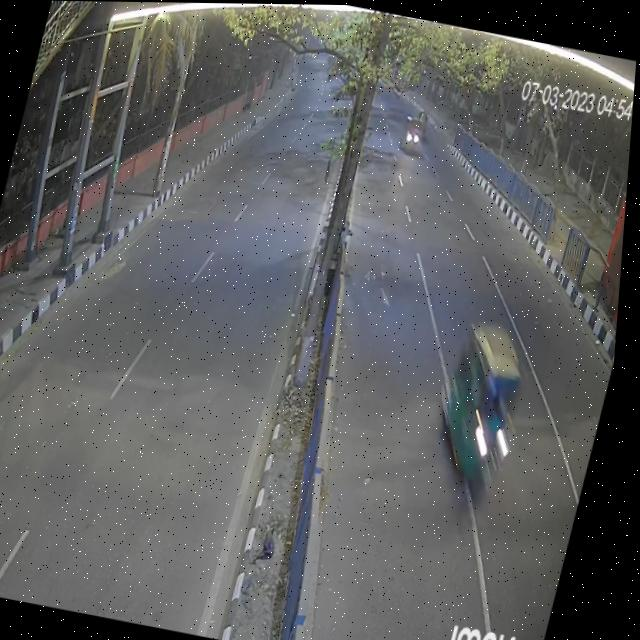cng: (430, 307, 549, 491)
